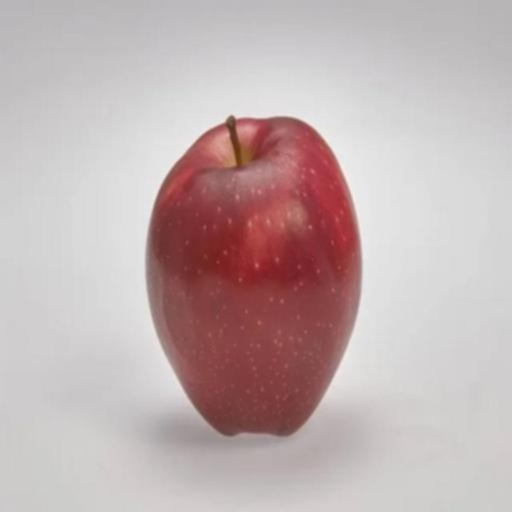fruit: (68, 141, 238, 505)
